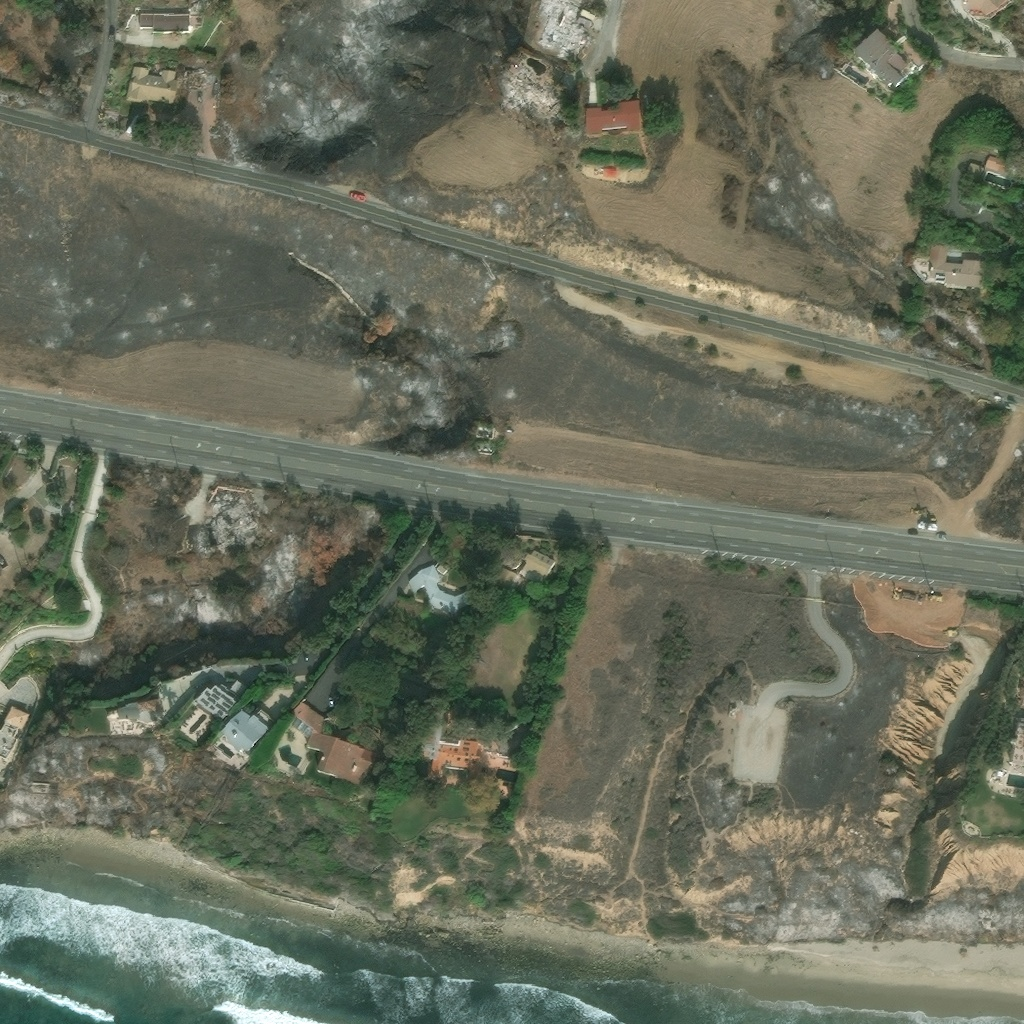0 no-damage: (290, 700, 376, 788), (851, 28, 914, 91), (406, 563, 473, 616), (489, 548, 557, 599), (910, 245, 985, 290), (416, 737, 485, 778), (216, 710, 270, 758), (194, 678, 245, 723), (124, 65, 178, 105), (584, 101, 641, 138), (115, 696, 164, 725), (138, 13, 189, 33), (961, 0, 1009, 16), (985, 154, 1014, 178), (964, 162, 983, 180), (602, 168, 616, 178)
3 destroyed: (501, 65, 571, 128), (198, 501, 254, 555), (534, 0, 585, 59), (181, 68, 213, 89), (212, 489, 233, 502)
